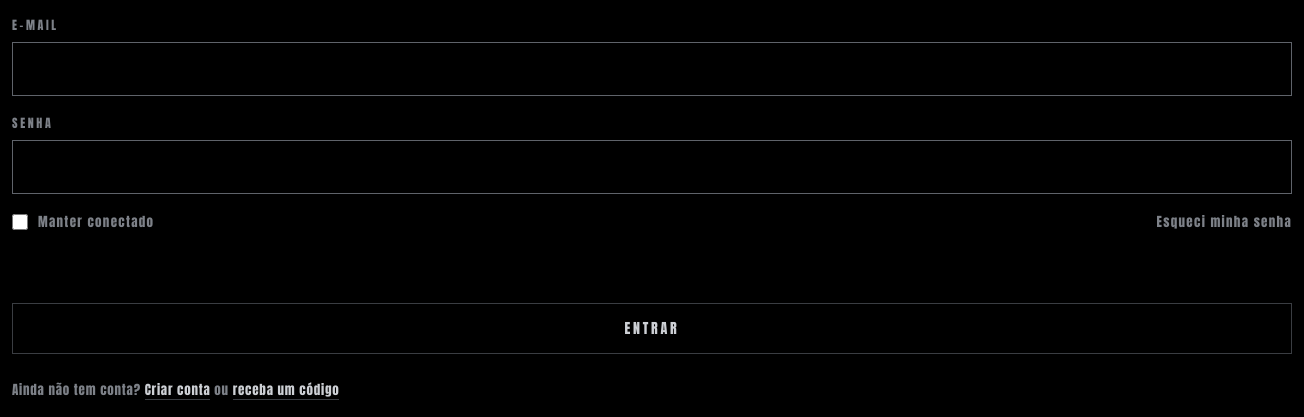
Test: login (#130) › errar a senha mantem o e-mail e a caixinha de manter conectado
Type "maria@exemplo.com" into the field labelled "E-mail" at [652, 69], box [12,42,1292,96]
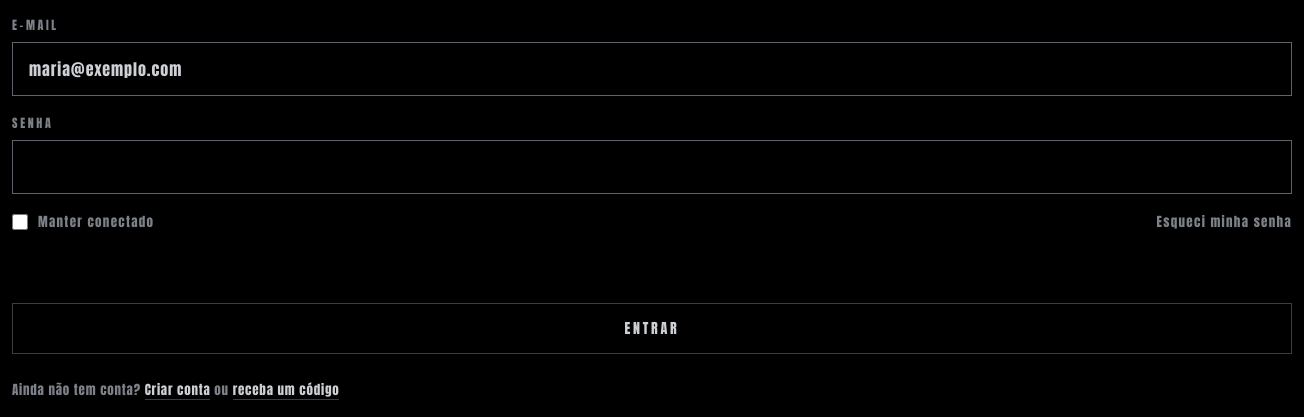
Type "senha-errada" into the password field labelled "Senha" at [652, 167], box [12,140,1292,194]
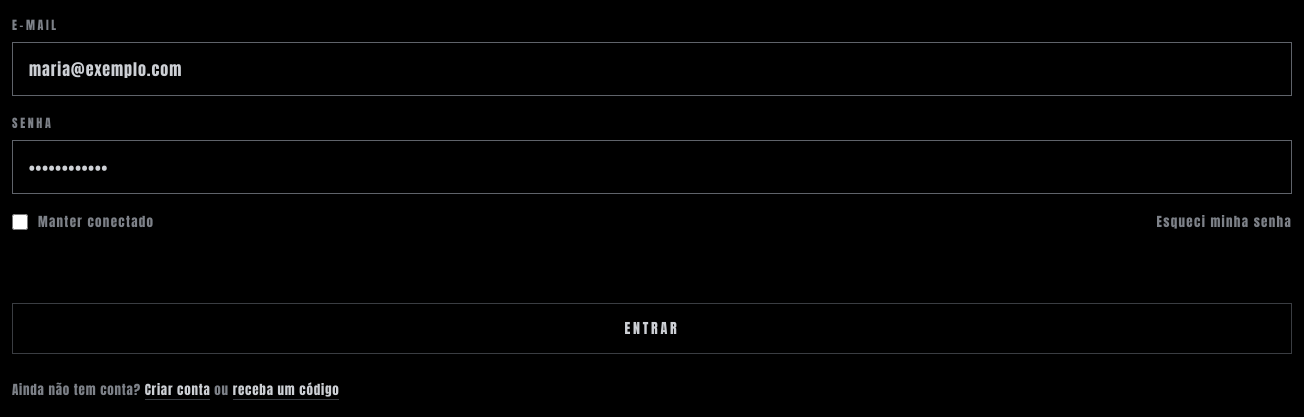
Click the checkbox labelled "Manter conectado" at [20, 222], box [12,214,28,230]
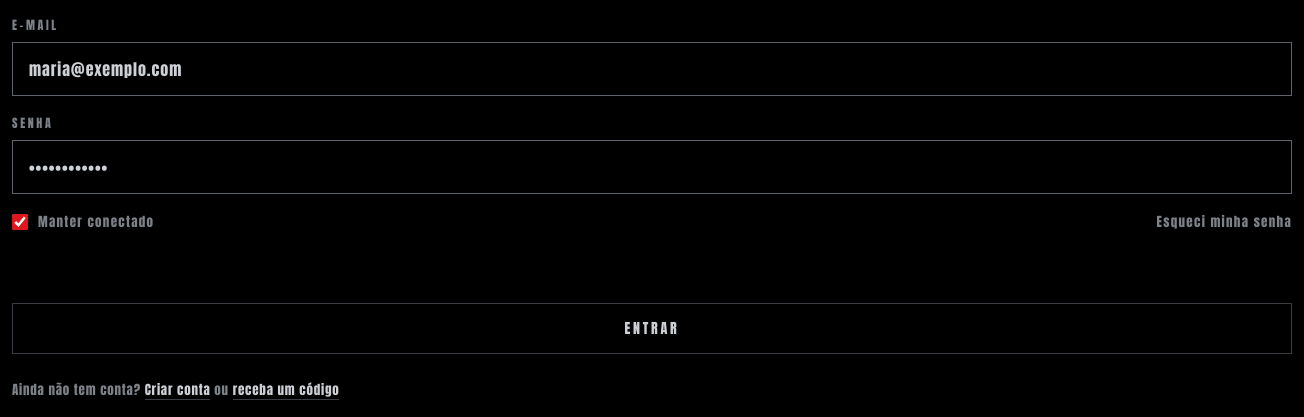
Submit the form
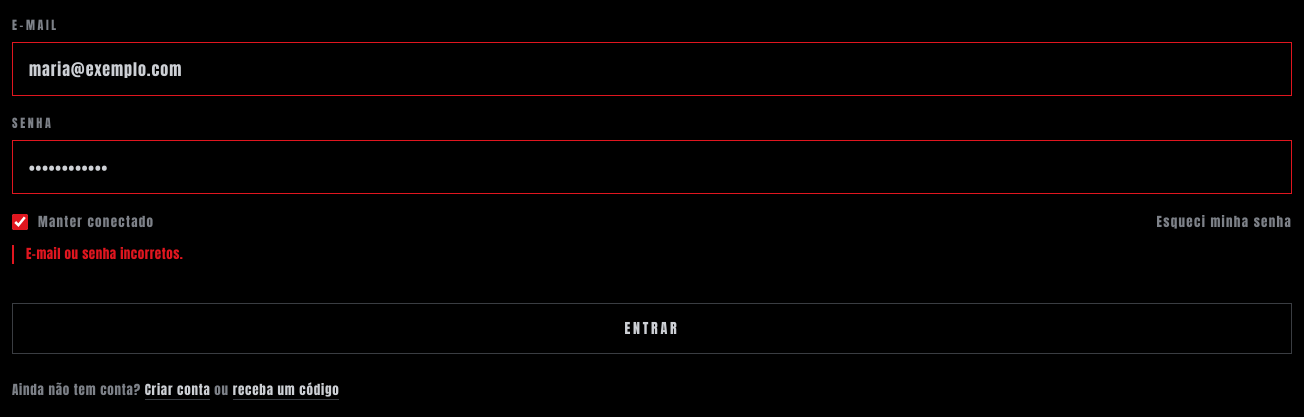
Check: the checkbox labelled "Manter conectado" is checked, box [12,214,28,230]
Check: the message "E-mail ou senha incorretos." is shown, box [12,245,1292,264]
